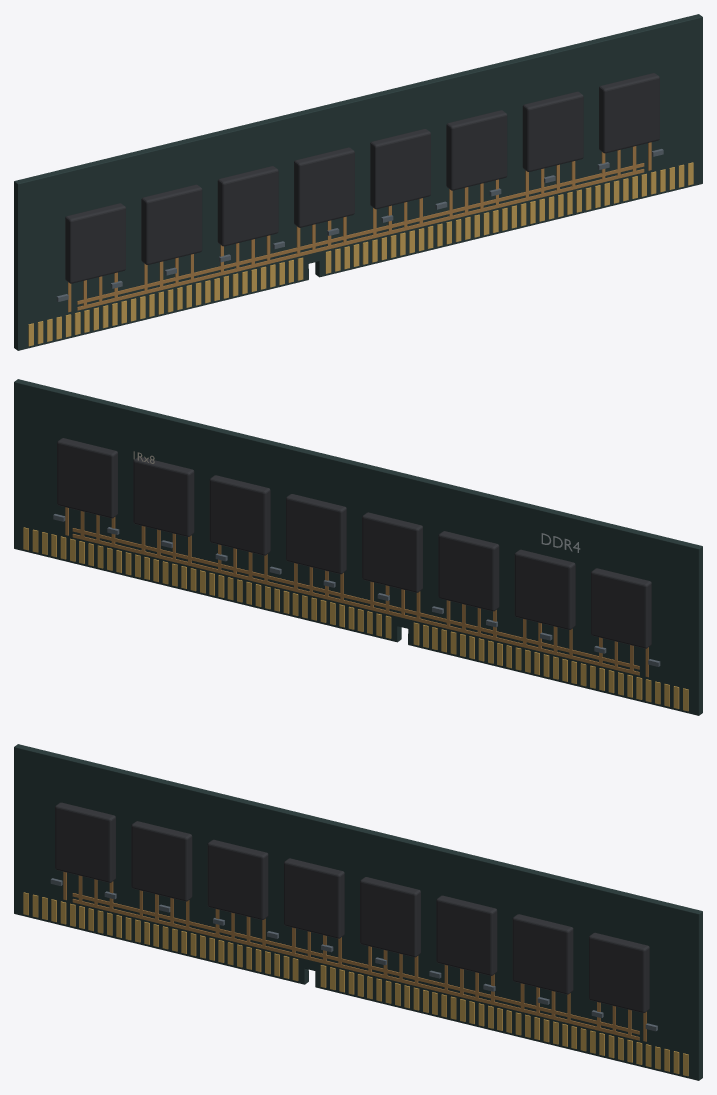
The model's file is ram-ddr4.glb.
3 renders of one model, top to bottom at view 1: azimuth 30°, elevation 25°; view 2: azimuth 150°, elevation 25°; view 3: azimuth 330°, elevation 25°, orthographic.
Parts seen in each view (by area): view 1: RAM_PCB_Deep_Slate, RAM_Chip_Ceramic, RAM_Contact_Gold, RAM_Trace_Copper, RAM_Metal_Dark_Steel; view 2: RAM_PCB_Deep_Slate, RAM_Chip_Ceramic, RAM_Contact_Gold, RAM_Trace_Copper, RAM_Metal_Dark_Steel; view 3: RAM_PCB_Deep_Slate, RAM_Chip_Ceramic, RAM_Contact_Gold, RAM_Trace_Copper, RAM_Metal_Dark_Steel.
Boxes of the visible parts, bbox=[...] form: RAM_PCB_Deep_Slate: bbox=[14, 14, 702, 350]; RAM_Chip_Ceramic: bbox=[65, 73, 659, 283]; RAM_Contact_Gold: bbox=[28, 162, 693, 346]; RAM_Trace_Copper: bbox=[68, 142, 651, 312]; RAM_Metal_Dark_Steel: bbox=[56, 149, 663, 301]; RAM_PCB_Deep_Slate: bbox=[14, 379, 702, 715]; RAM_Chip_Ceramic: bbox=[57, 438, 651, 648]; RAM_Contact_Gold: bbox=[23, 527, 688, 711]; RAM_Trace_Copper: bbox=[65, 507, 648, 677]; RAM_Metal_Dark_Steel: bbox=[53, 514, 660, 666]; RAM_PCB_Deep_Slate: bbox=[14, 744, 702, 1080]; RAM_Chip_Ceramic: bbox=[55, 802, 649, 1013]; RAM_Contact_Gold: bbox=[23, 892, 688, 1076]; RAM_Trace_Copper: bbox=[63, 872, 646, 1041]; RAM_Metal_Dark_Steel: bbox=[50, 878, 657, 1031].
Size of the model in its own units: 0.133 by 0.031 by 0.0058.
